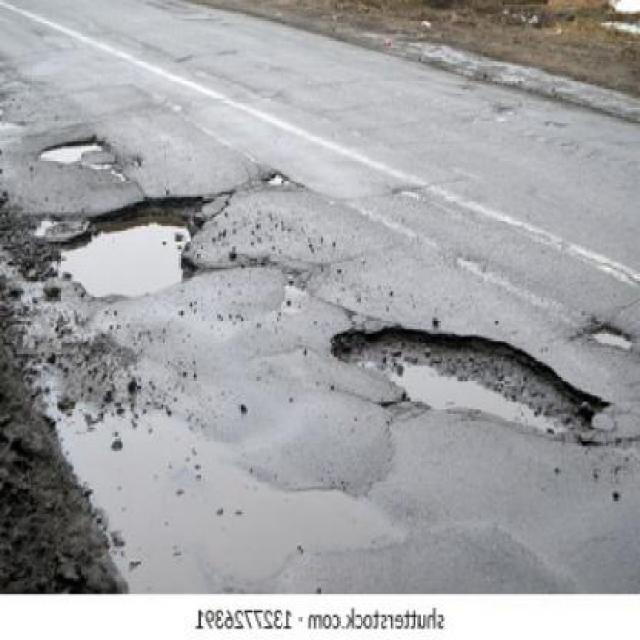Pothole: (331, 325, 612, 444), (59, 196, 228, 297), (574, 316, 640, 351), (39, 135, 108, 164)
